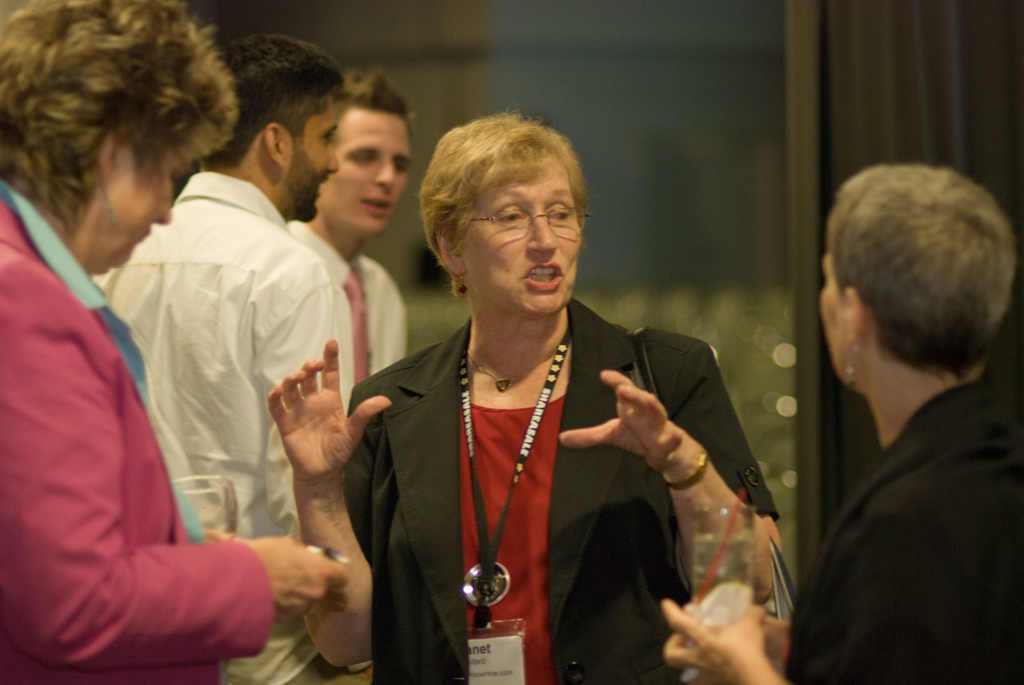Human-face: (461, 157, 584, 315), (90, 146, 194, 272), (328, 110, 412, 232), (284, 99, 342, 220), (819, 252, 847, 377)
